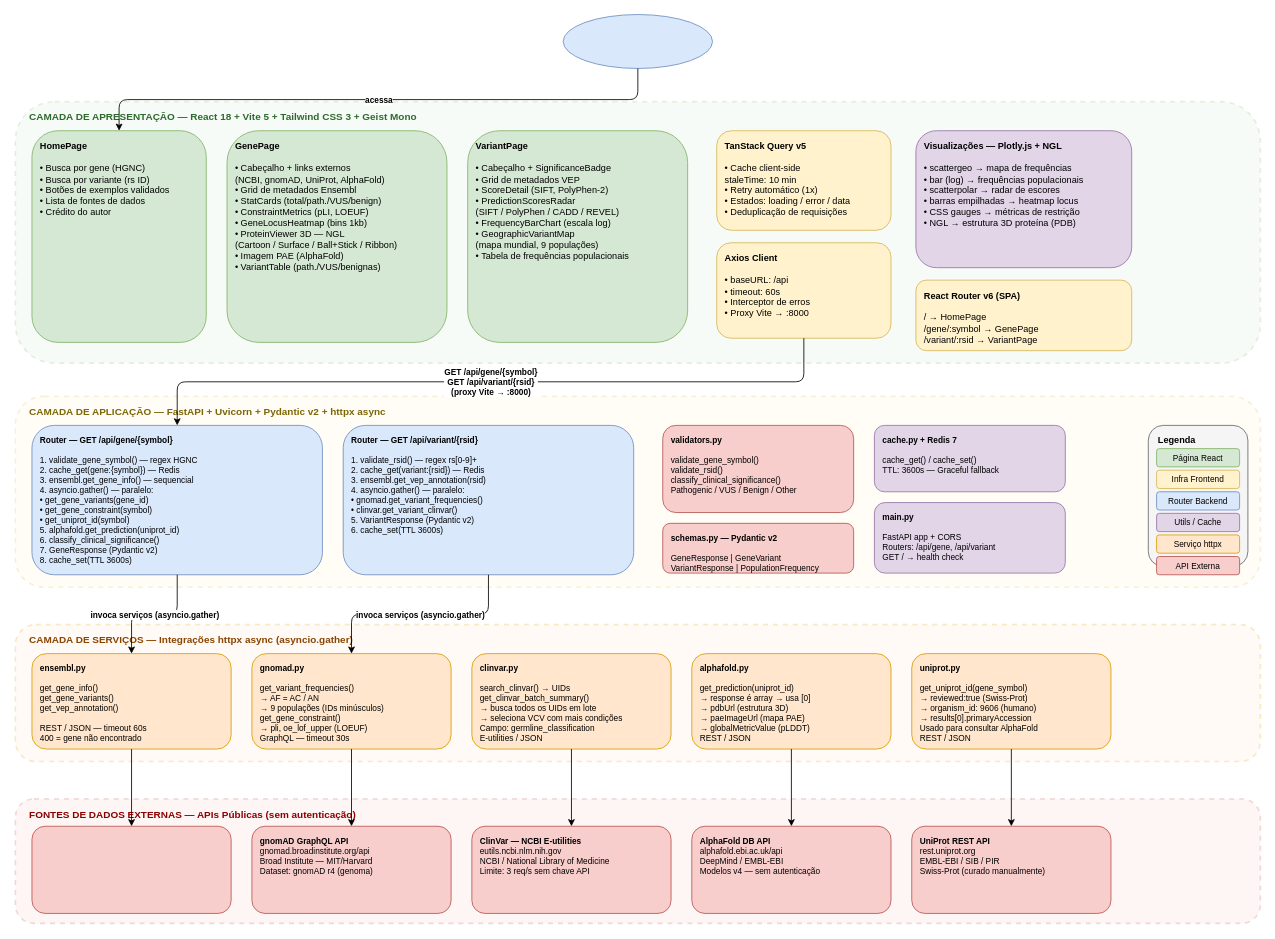
Some shapes in this 1275 by 939 pixel diagram are drawn without their labels. The box of each missing label's shape, as (x1, y1, x2, y2) in pixels:
Ensembl REST API rest.ensembl.org EMBL-EBI / Wellcome Sanger Limite: 15 req/s: (31, 825, 231, 913)
Usuário Navegador Web: (562, 14, 713, 68)
